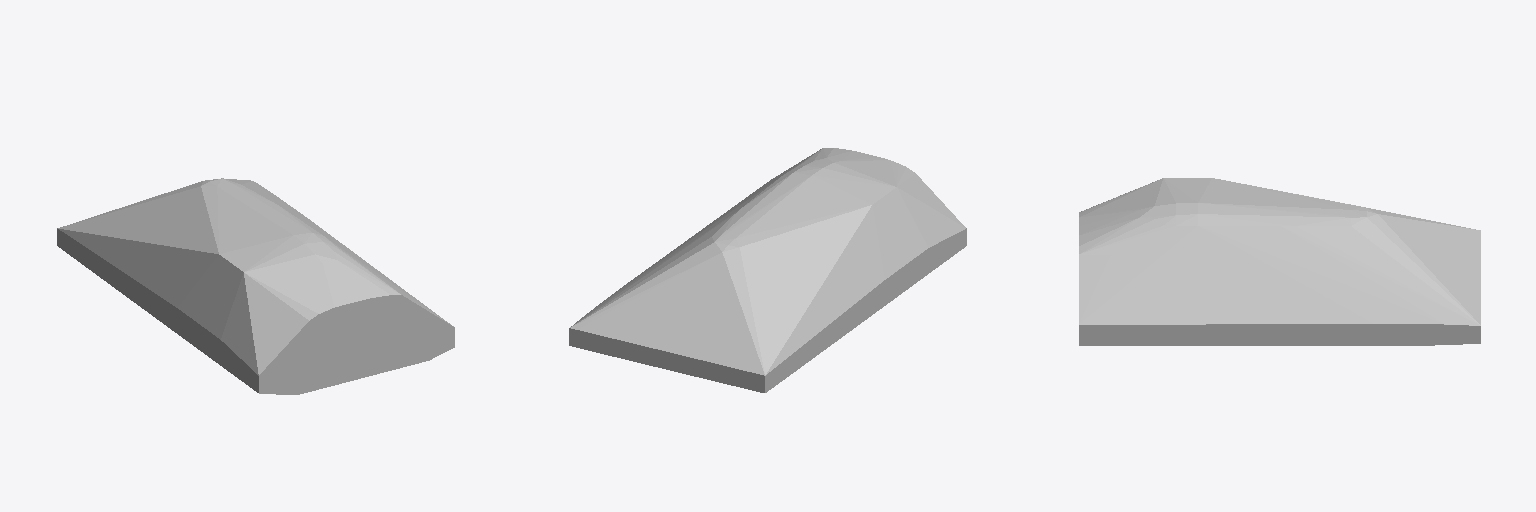
Rendered from ShipScene_collision_23.obj.
The picture shows the model from 3 angles: view 1: azimuth 30°, elevation 25°; view 2: azimuth 150°, elevation 25°; view 3: azimuth 270°, elevation 25°; orthographic projection.
Bounding box in the file's own units: 52.61 × 26.46 × 93.74.